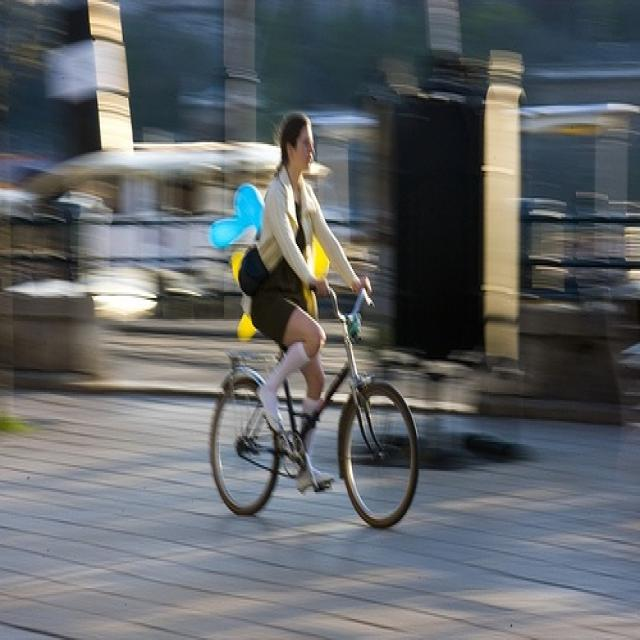bicycle: (209, 276, 421, 526)
